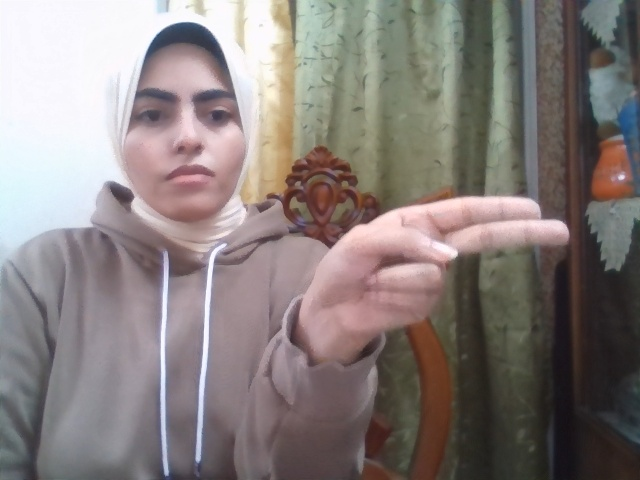H: (313, 195, 569, 336)
